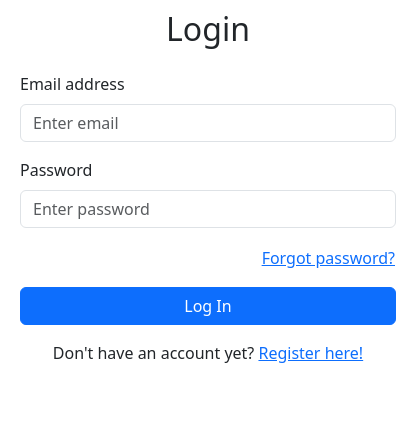
Scenario: Login Page › shows "Incorrect email or password." on 401
Type "bad@creds.com" into the field with placeholder "Enter email".
click(208, 123); type("bad@creds.com")  # box [20,104,396,142]
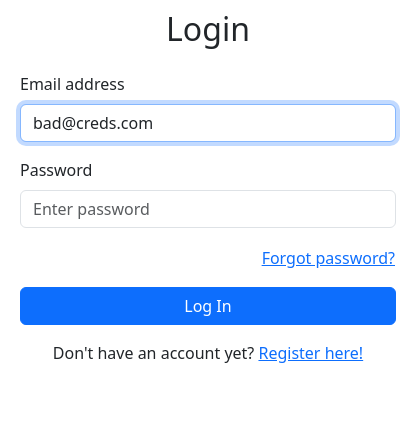
Type "nopass" into the password field with placeholder "Enter password".
click(208, 209); type("nopass")  # box [20,190,396,228]
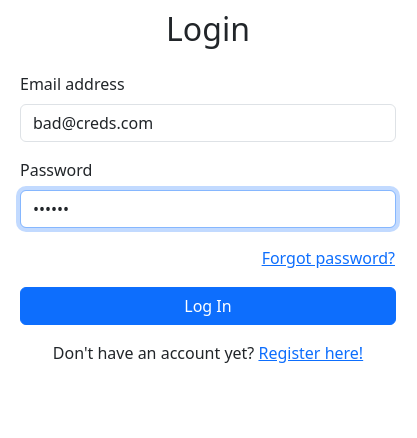
Click the button "Log In".
click(208, 306)  # box [20,287,396,325]
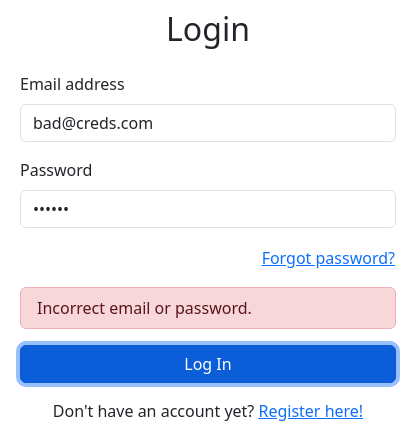
Check: the text "Incorrect email or password." is shown, box [20,287,396,329]
